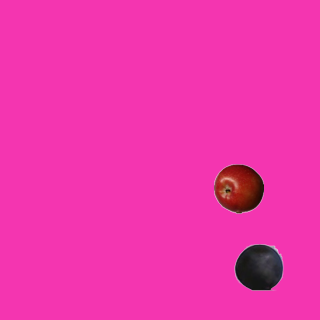Apple Braeburn: (213, 163, 263, 213)
Grape Blue: (233, 241, 283, 291)
